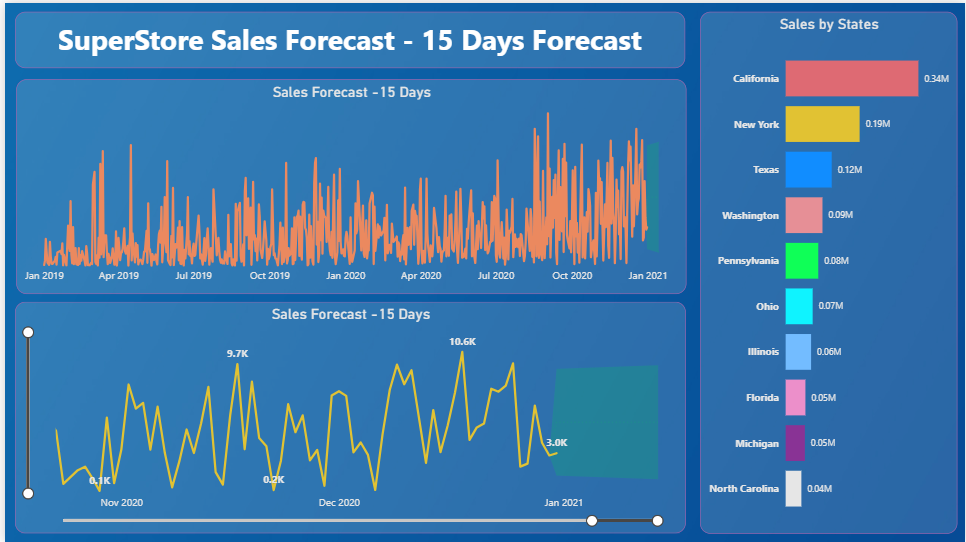

The page's visual inventory and layout, read from the dashboard file:
{"tool":"powerbi","page":{"name":"Page 2","canvas":[1280,720],"ordinal":1},"visuals":[{"type":"lineChart","title":"Sales Forecast -15 Days","fields":{"Y":["Sum(SuperStore_Sales.Sales)"],"Category":["SuperStore_Sales.Order Date"]},"box":[12.9,398.6,894.3,308.6],"z":0},{"type":"lineChart","title":"Sales Forecast -15 Days","fields":{"Y":["Sum(SuperStore_Sales.Sales)"],"Category":["SuperStore_Sales.Order Date"]},"box":[15,101.7,893.3,286.7],"z":1000},{"type":"clusteredBarChart","title":"Sales by States","fields":{"Category":["SuperStore_Sales.State"],"Y":["Sum(Sheet1.Sales)"]},"box":[927.1,11.4,342.9,695.7],"z":2000},{"type":"textbox","box":[13.3,11.7,893.3,75],"z":3000}]}

Visuals, with their boxes in screenshot pixels (x1, y1, x2, y2), scaled from the page's 1280x720 canvas onto the 966x542 screenshot:
"Sales Forecast -15 Days" lineChart: crop(10, 300, 685, 532)
"Sales Forecast -15 Days" lineChart: crop(11, 77, 685, 292)
"Sales by States" clusteredBarChart: crop(700, 9, 958, 532)
textbox: crop(10, 9, 684, 65)
